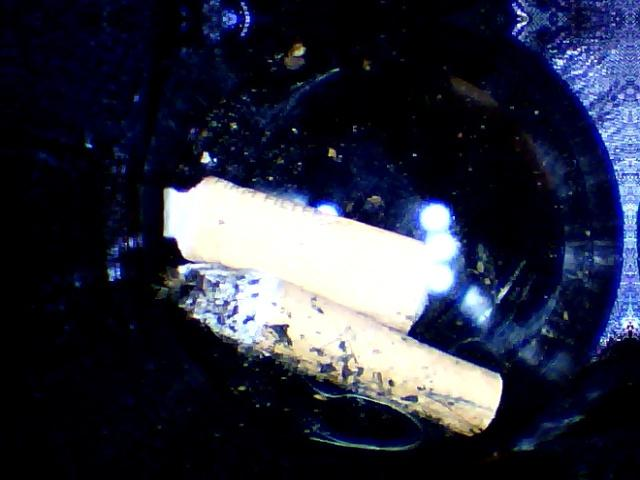megot: (142, 251, 510, 438), (126, 165, 447, 344)
